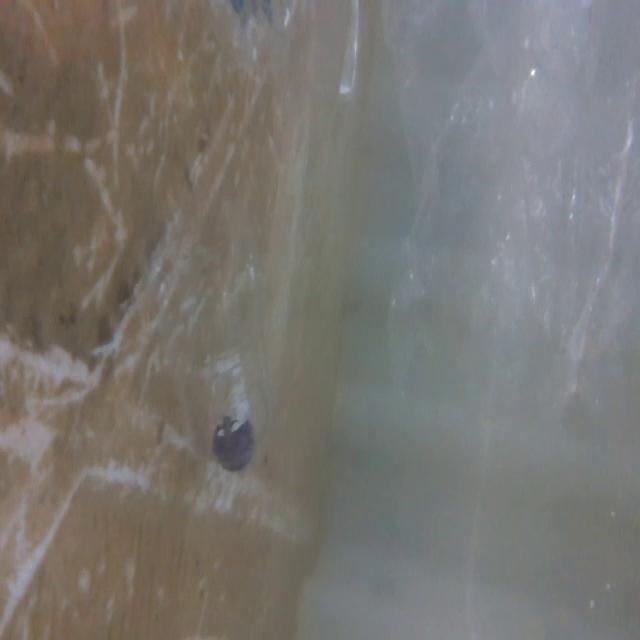plastic bags: (387, 0, 640, 441), (190, 0, 365, 105)
plastic bottle: (126, 188, 292, 468)
